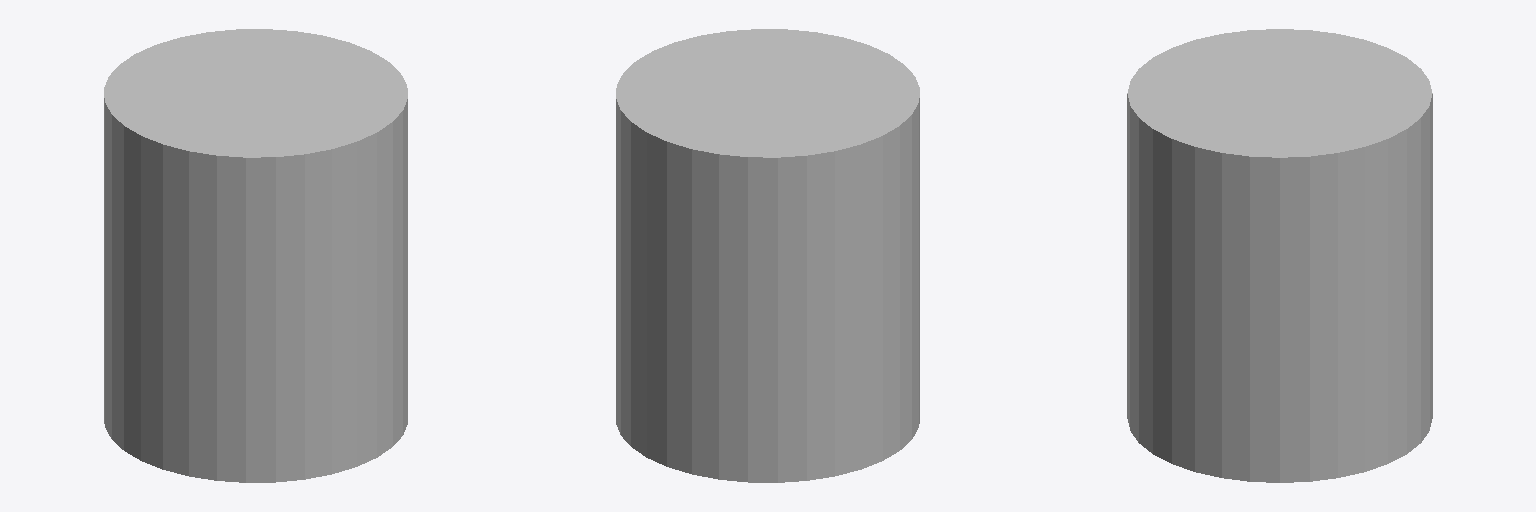
The model's file is can_frame2.obj.
3 views of the same model, side by side, from view 1: azimuth 30°, elevation 25°; view 2: azimuth 150°, elevation 25°; view 3: azimuth 270°, elevation 25° (orthographic).
Parts seen in each view (by area): view 1: Cylinder; view 2: Cylinder; view 3: Cylinder.
Boxes of the visible parts, x1,y1,x2,y2 form: Cylinder: [104, 29, 407, 482]; Cylinder: [616, 29, 919, 482]; Cylinder: [1127, 29, 1432, 482].
Bounding box in the file's own units: 2 × 2.35 × 2.